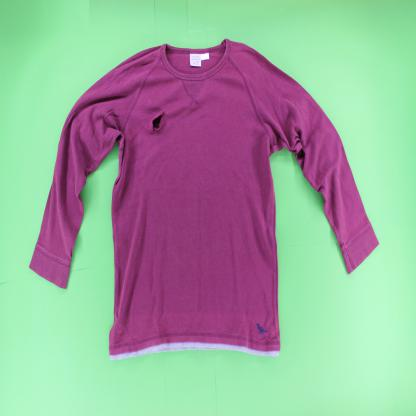hole: (150, 109, 168, 133)
